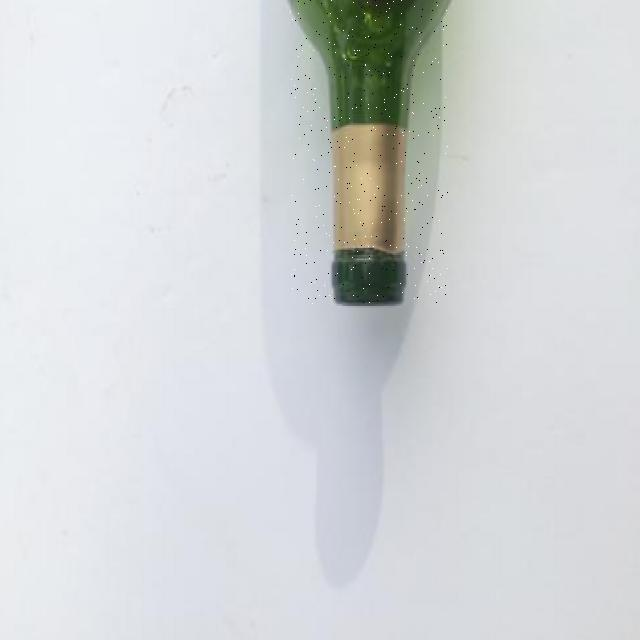glass: (291, 0, 448, 306)
